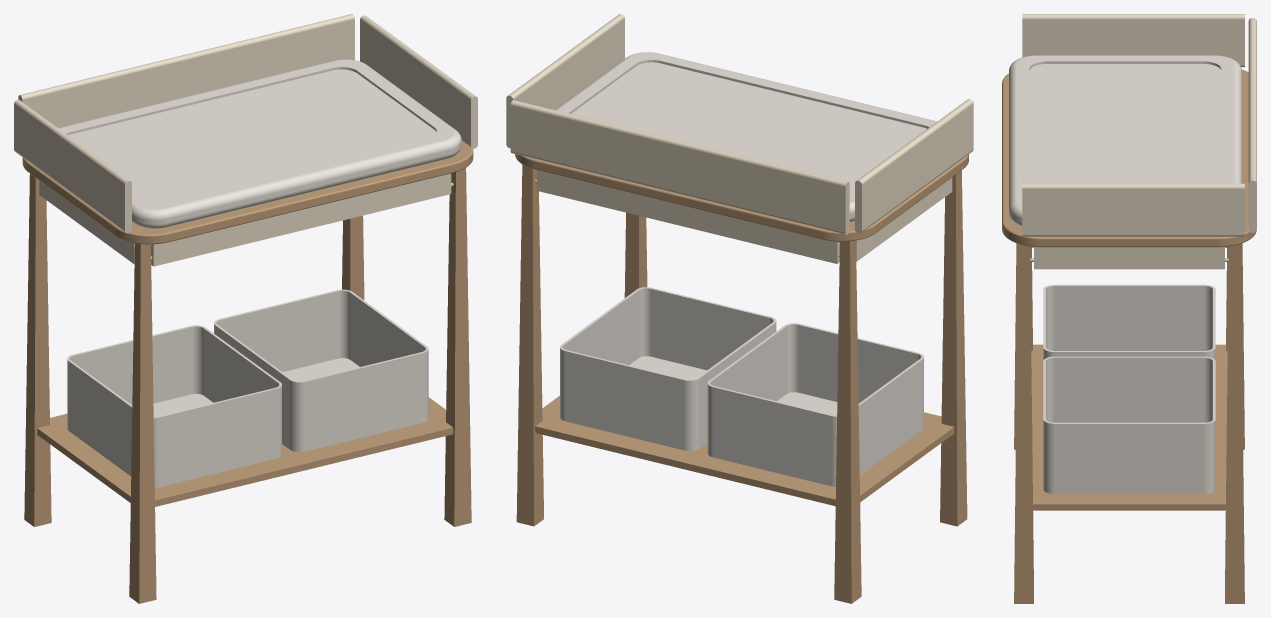
3 views of the same model, side by side, from view 1: azimuth 30°, elevation 25°; view 2: azimuth 150°, elevation 25°; view 3: azimuth 270°, elevation 25° (orthographic).
Parts seen in each view (by area): view 1: fabric.3, fabric.1, fabric.2, body.5, wood.6, wood.5, wood.4, wood.3, wood.1, body.7, body.2, body.6 (+2 smaller); view 2: fabric.3, fabric.1, fabric.2, body.5, wood.6, wood.3, wood.2, wood.5, body.7, body.1, wood.1, body.6 (+2 smaller); view 3: fabric.3, fabric.2, fabric.1, body.6, body.7, wood.6, wood.2, wood.4, wood.1, body.3, body.5, wood.3 (+1 smaller).
Part boxes in pixels (x1,y1,x2,y2): fabric.3: (58,59,461,228); fabric.1: (67,325,281,487); fabric.2: (214,289,428,452); body.5: (18,14,354,127); wood.6: (37,397,453,506); wood.5: (129,243,156,603); wood.4: (444,168,471,526); wood.3: (24,174,51,526); wood.1: (22,141,473,244); body.7: (14,100,131,233); body.2: (151,173,451,266); body.6: (360,15,477,148); fabric.3: (555,52,937,221); fabric.1: (707,323,923,486); fabric.2: (560,287,776,450); body.5: (510,100,849,234); wood.6: (535,396,954,506); wood.3: (834,240,861,603); wood.2: (516,164,543,526); wood.5: (940,170,967,526); body.7: (855,99,973,233); body.1: (537,170,839,263); wood.1: (515,154,968,241); body.6: (506,14,624,148); fabric.3: (1009,55,1241,226); fabric.2: (1043,356,1215,493); fabric.1: (1043,284,1215,359); body.6: (1022,183,1244,236); body.7: (1022,14,1244,67); wood.6: (1031,344,1227,510); wood.2: (1225,244,1244,603); wood.4: (1014,244,1033,603); wood.1: (1002,69,1256,247); body.3: (1034,247,1224,269); body.5: (1248,18,1256,232); wood.3: (1226,243,1244,449).
Bounding box in the file's own units: 0.9 × 1.03 × 0.56.
